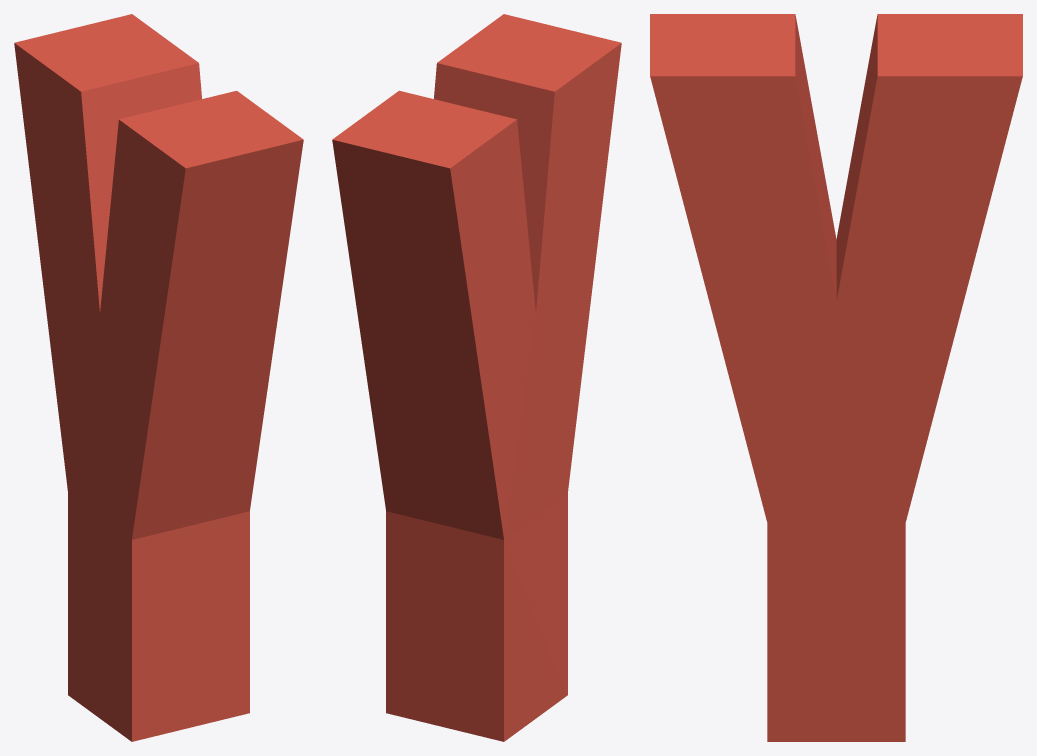
The picture shows the model from 3 angles, left to right: view 1: azimuth 30°, elevation 25°; view 2: azimuth 150°, elevation 25°; view 3: azimuth 270°, elevation 25°; orthographic projection. The views are drawn at different scales.
Visible parts, largest first — view 1: Y; view 2: Y; view 3: Y.
Part boxes in pixels (left/top/right/bottom): Y: left=14, top=14, right=303, bottom=741; Y: left=332, top=14, right=621, bottom=741; Y: left=650, top=14, right=1022, bottom=741.
Bounding box in the file's own units: 0.1 × 0.4965 × 0.252.
